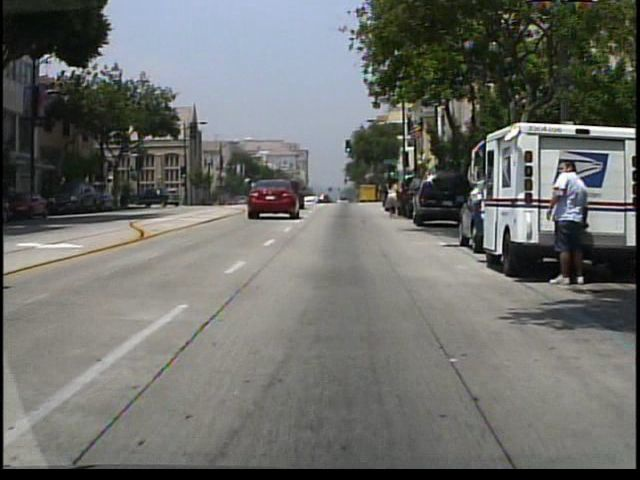person: (546, 161, 593, 289), (384, 175, 405, 220)
